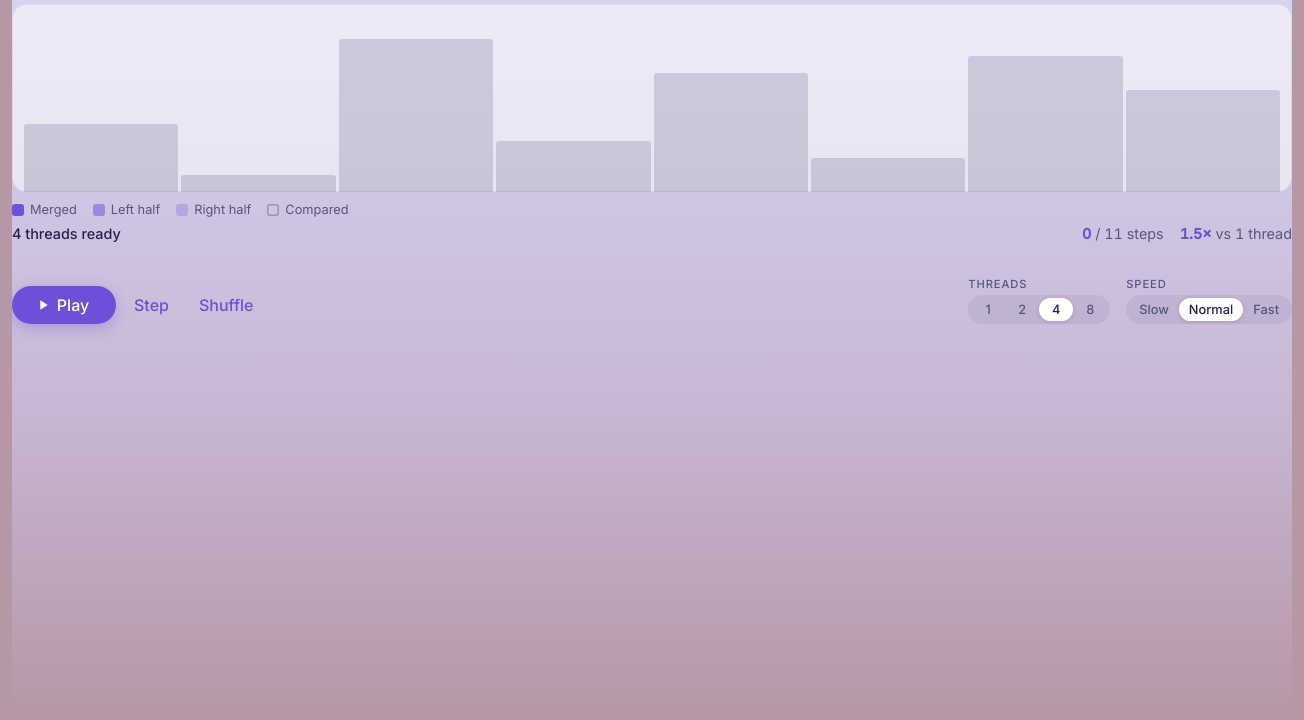
Test: with one thread, each step names the two values compared
What coordinates should you click on to do the following:
click the button named "1 thread"
I would click on:
 (988, 309)
Its box is [971,298,1005,321].
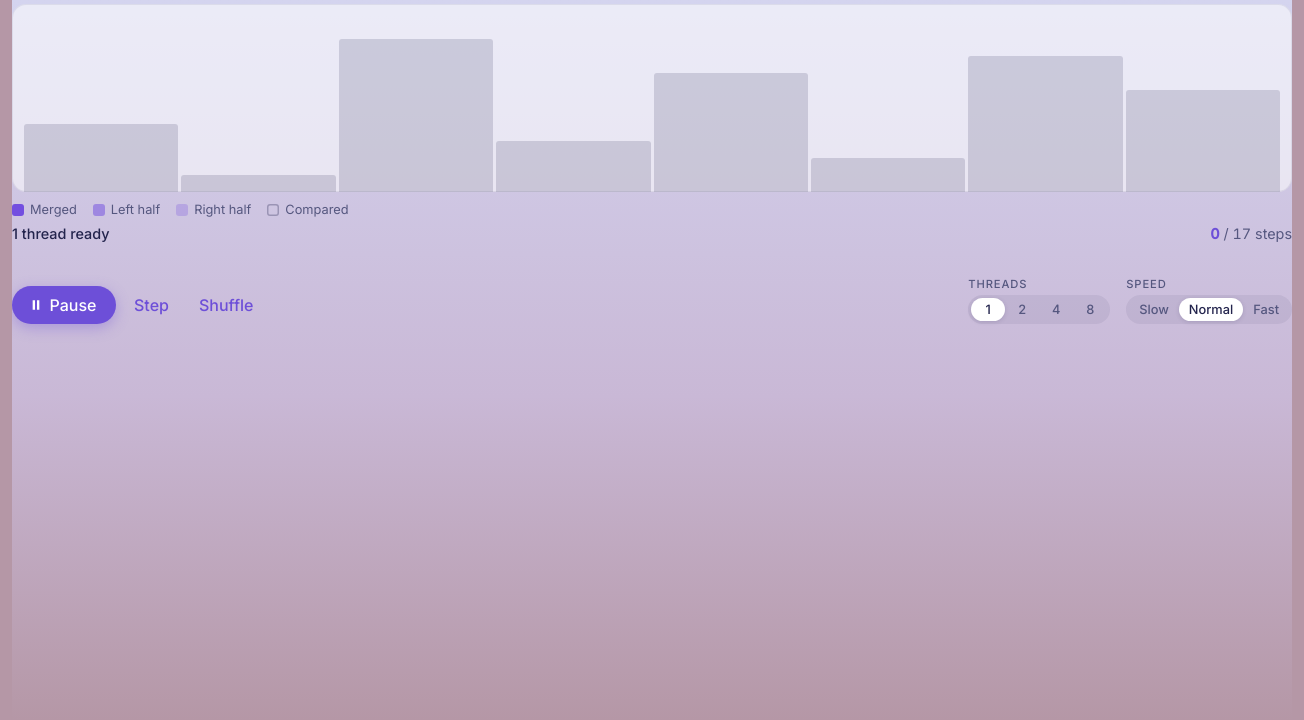
What coordinates should you click on to do the following:
click the button "Step"
I would click on:
 (151, 305)
Its box is [122,287,181,323].
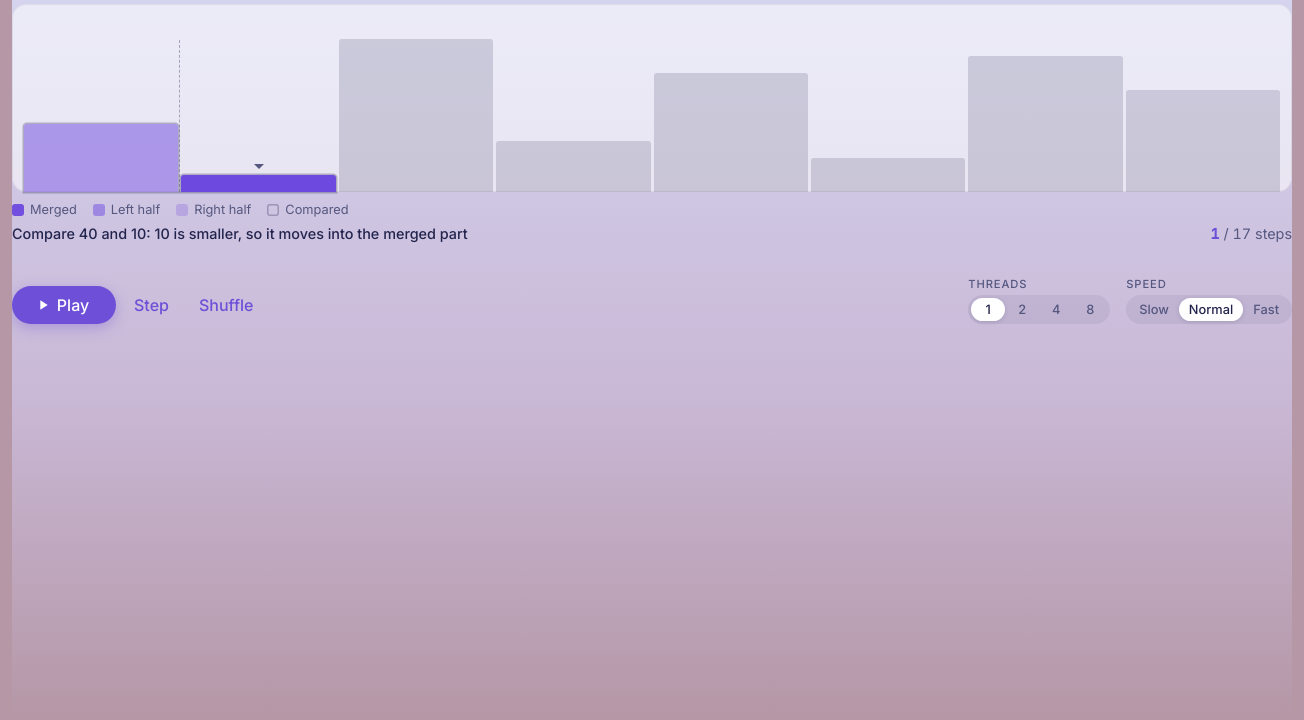
Check: the number of elements with class "sort-demo__bar--compared" is 2, box [24,124,178,192]; [181,175,336,192]
Check: the text "Compare 40 and 10: 10 is smaller, so it moves into the merged part" is shown, box [12,225,468,242]
